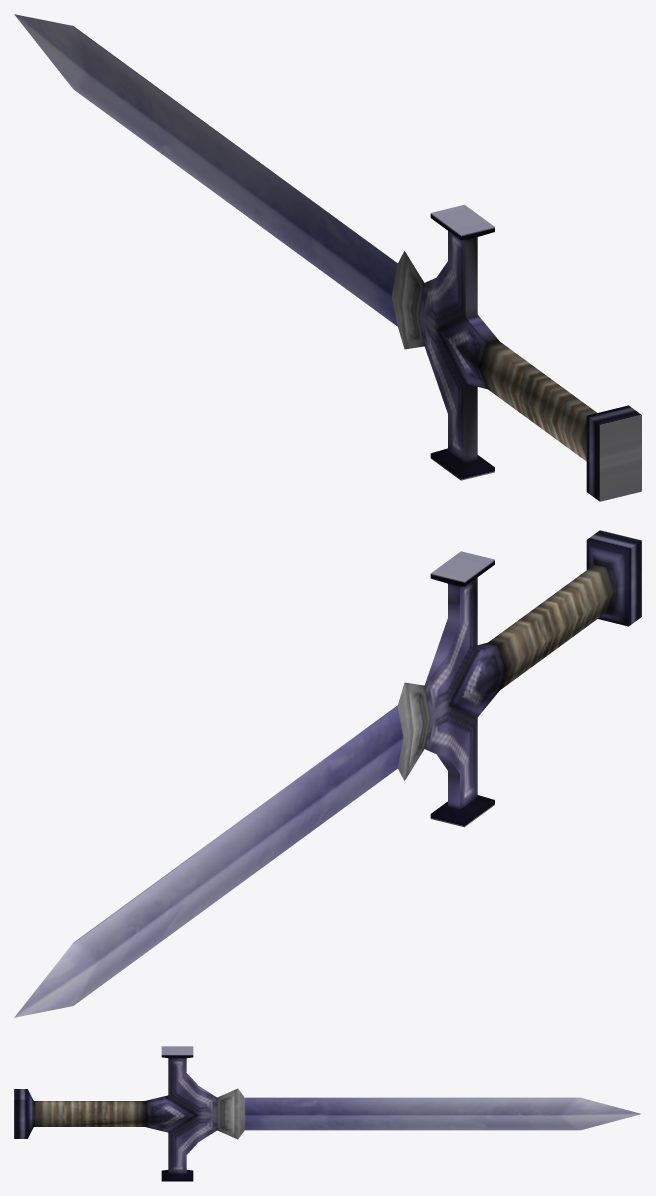
The model's file is SWORD_MAN.fbx.
The picture shows the model from 3 angles, top to bottom: view 1: azimuth 30°, elevation 25°; view 2: azimuth 150°, elevation 25°; view 3: azimuth 270°, elevation 25°; orthographic projection. The views are drawn at different scales.
Visible parts, largest first — view 1: SWORD_MAN; view 2: SWORD_MAN; view 3: SWORD_MAN.
Part boxes in pixels (x1,y1,x2,y2): SWORD_MAN: (14,14,641,501); SWORD_MAN: (14,530,641,1017); SWORD_MAN: (14,1046,640,1181).
Bounding box in the file's own units: 531 × 2963 × 13287.
1 material, 1 textured.
